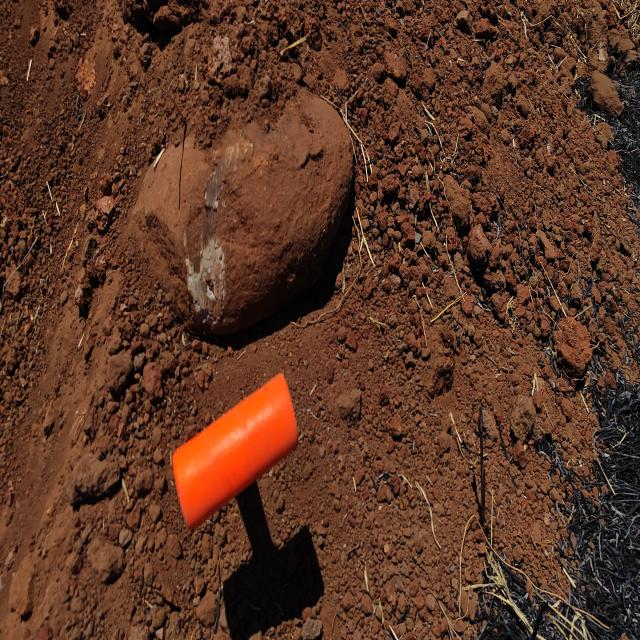Orange_hammer: (170, 371, 299, 531)
rock: (124, 61, 358, 341), (554, 316, 595, 378)
